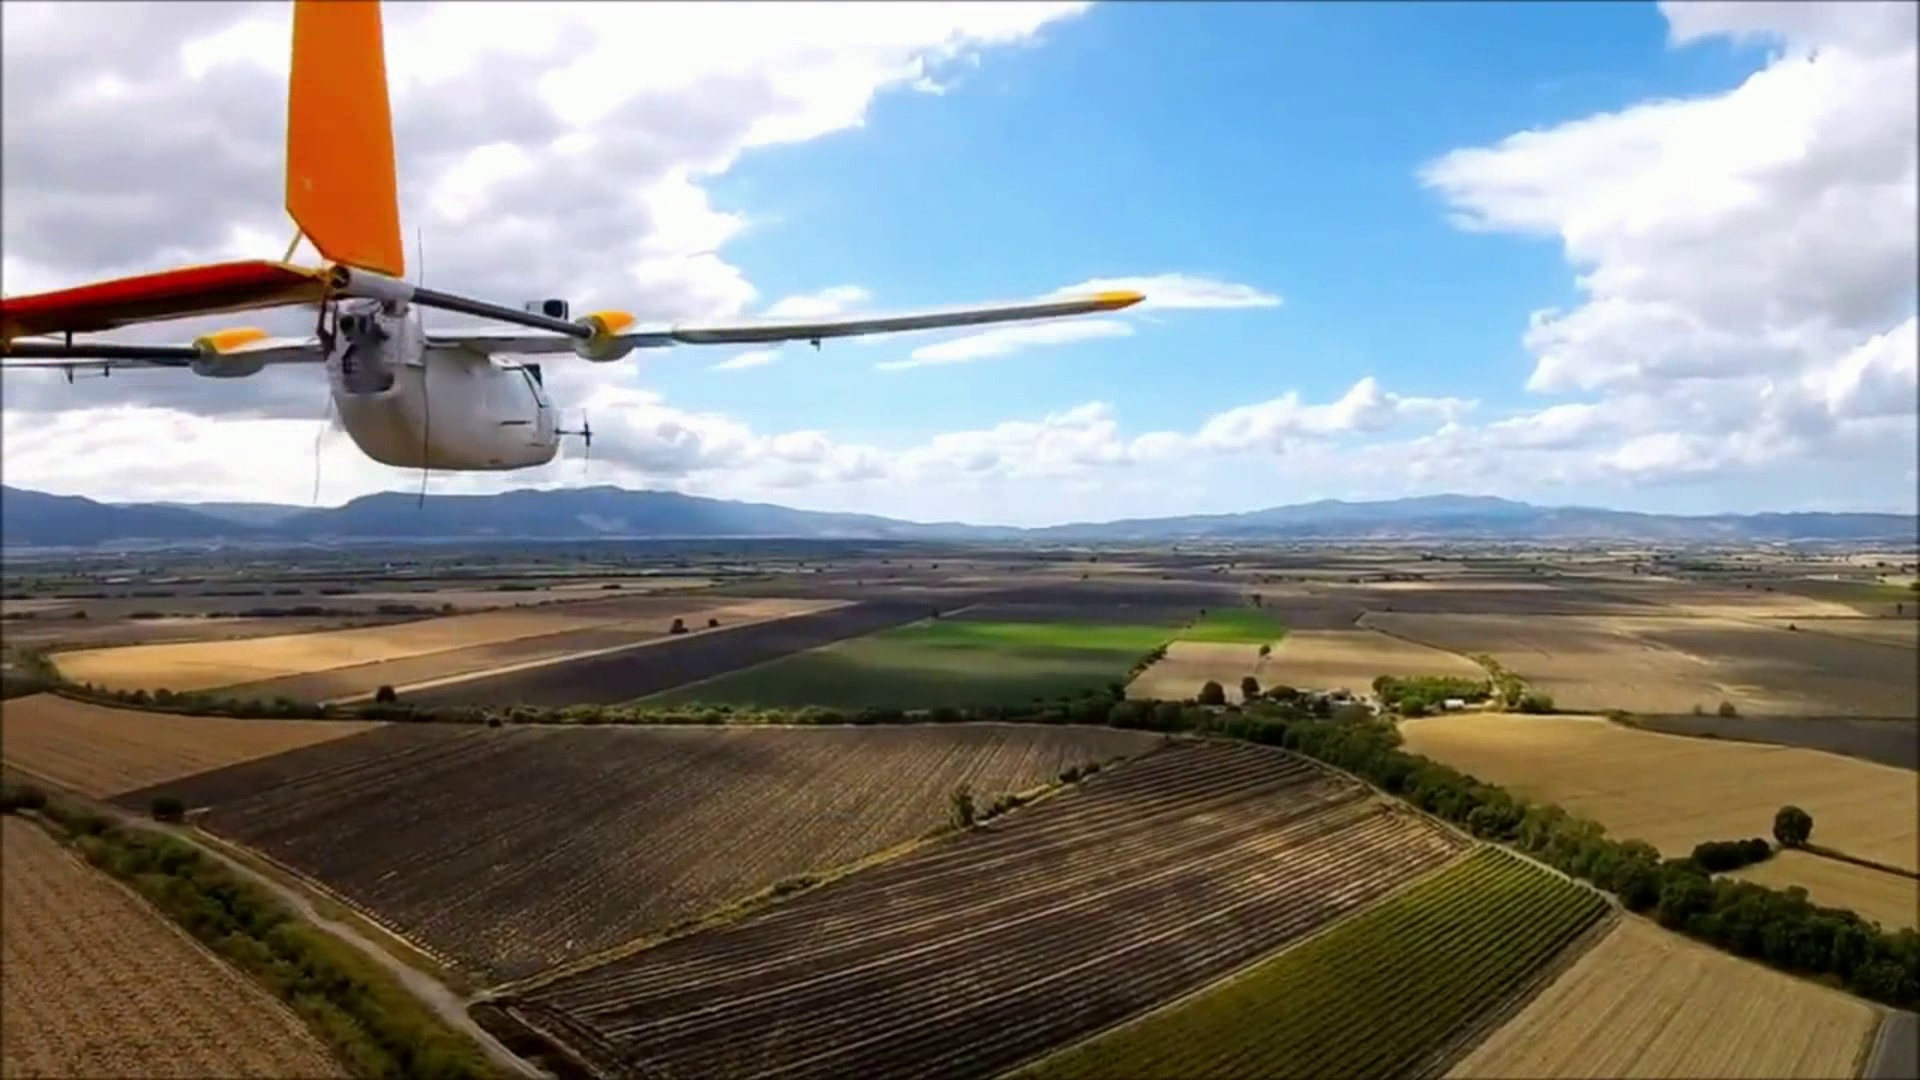airplane: (7, 4, 1261, 483)
